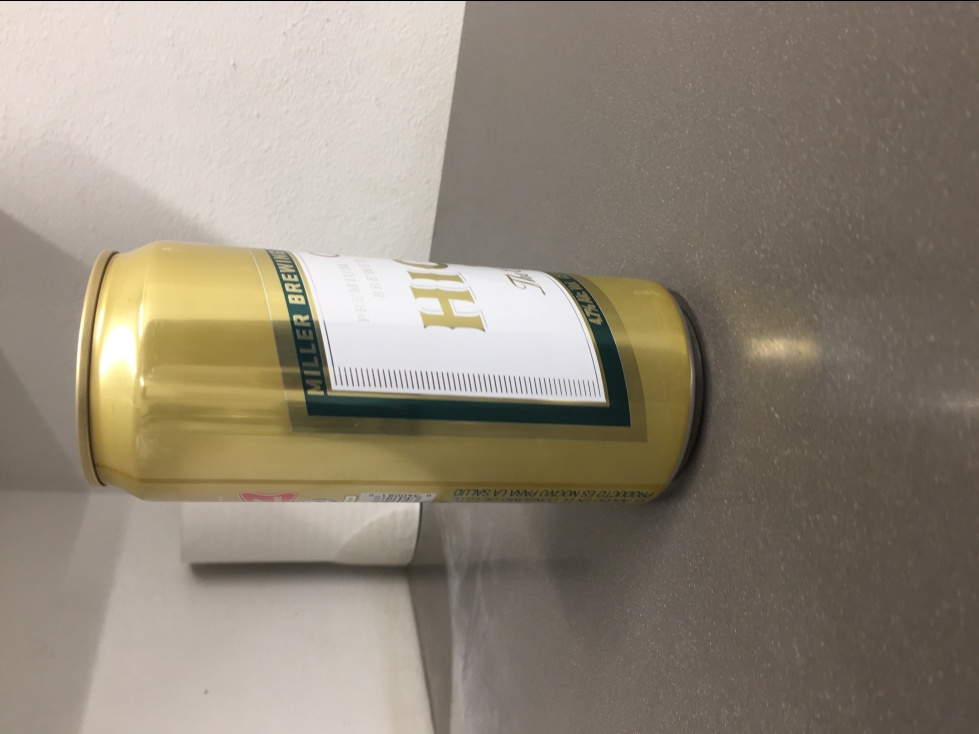miller: (70, 235, 705, 507)
